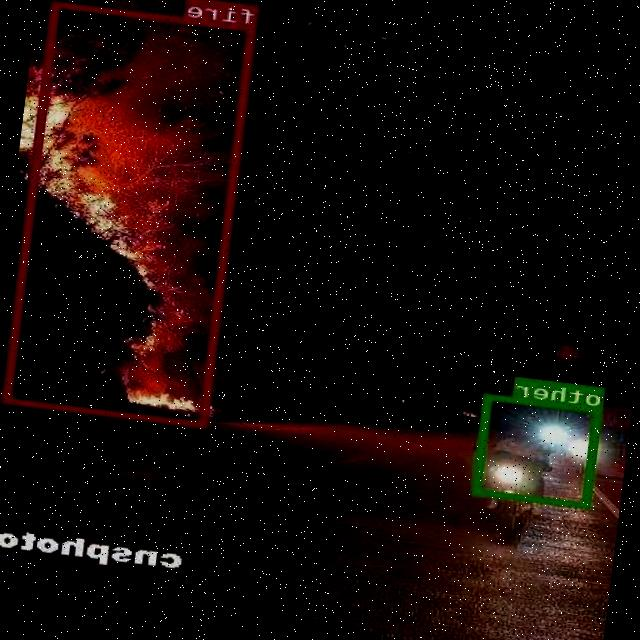fire: (4, 0, 256, 426)
